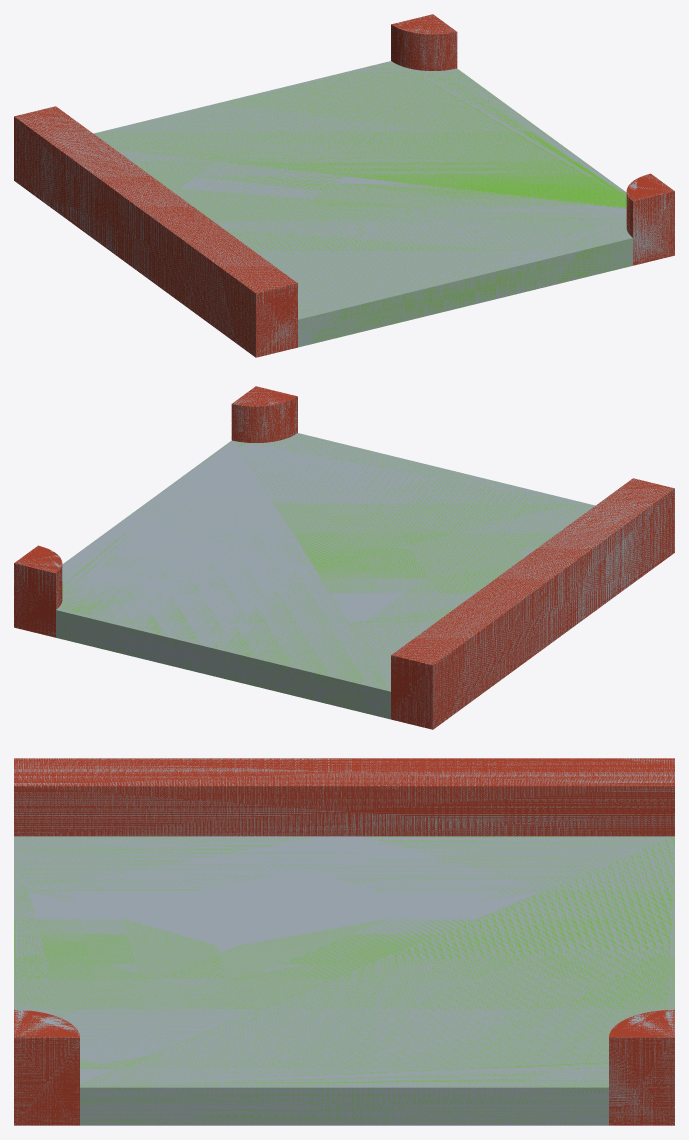
Rendered from T_split_01.obj.
3 views of the same model, one above another, from view 1: azimuth 30°, elevation 25°; view 2: azimuth 150°, elevation 25°; view 3: azimuth 270°, elevation 25° (orthographic). The views are drawn at different scales.
Visible parts, largest first — view 1: Mesh1 T_split Model; view 2: Mesh1 T_split Model; view 3: Mesh1 T_split Model.
Boxes of the visible parts, bbox=[...] form: Mesh1 T_split Model: bbox=[14, 14, 674, 357]; Mesh1 T_split Model: bbox=[14, 386, 674, 729]; Mesh1 T_split Model: bbox=[14, 758, 674, 1125].
Size of the model in its own units: 3 by 0.44 by 3.
